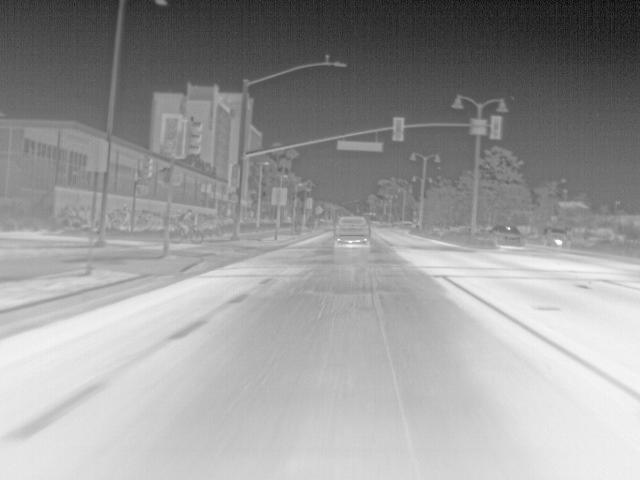car: (333, 214, 371, 248), (488, 223, 524, 247), (541, 227, 572, 249)
person: (178, 207, 195, 228)
